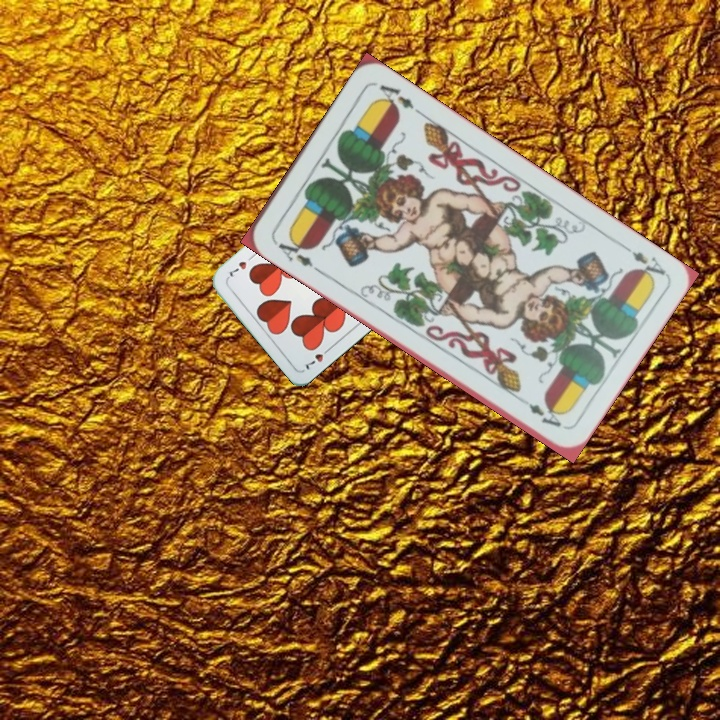EA: (616, 239, 669, 285), (269, 232, 316, 270)
H7: (301, 342, 335, 372)
